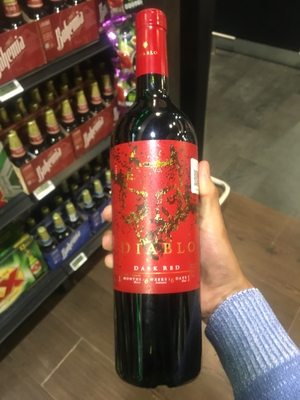diablo dark red: (101, 1, 210, 380)
